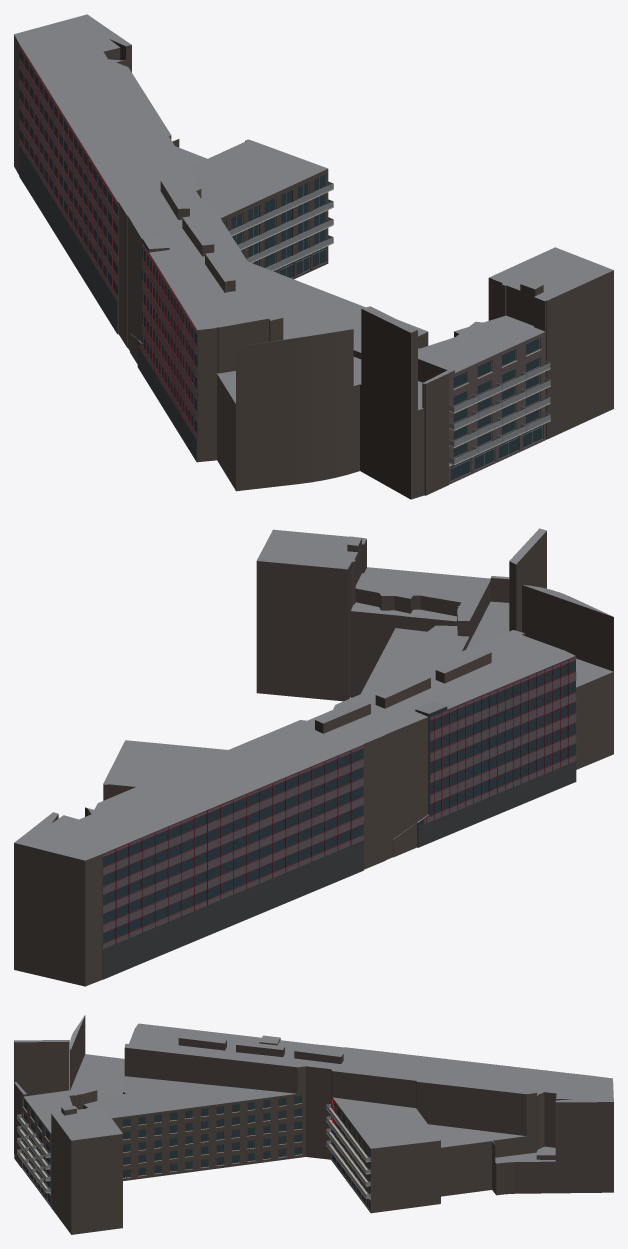
Rendered from recipe-large-stadsloket-west.glb.
3 views of the same model, one above another, from view 1: azimuth 30°, elevation 25°; view 2: azimuth 150°, elevation 25°; view 3: azimuth 270°, elevation 25° (orthographic). The views are drawn at different scales.
Visible parts, largest first — view 1: stadsloket-west; view 2: stadsloket-west; view 3: stadsloket-west.
Boxes of the visible parts, x1,y1,x2,y2 form: stadsloket-west: (14, 14, 613, 499); stadsloket-west: (14, 528, 613, 986); stadsloket-west: (14, 1015, 613, 1234).
Bounding box in the file's own units: 71.59 × 31.14 × 149.
